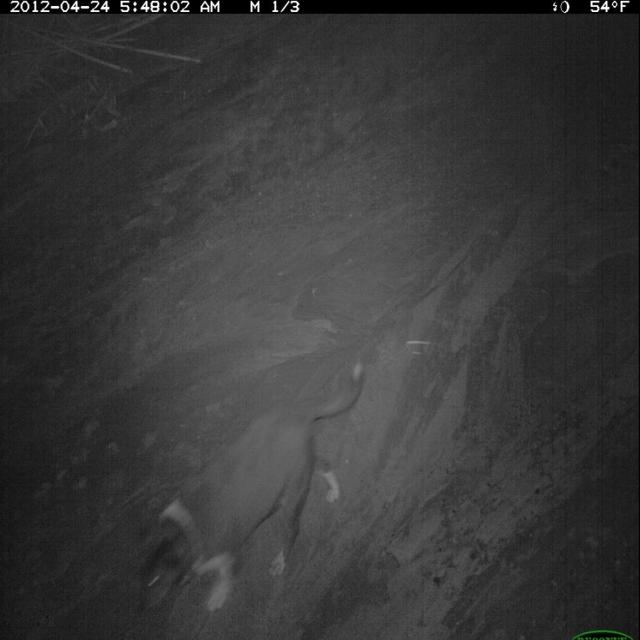dog: (136, 356, 369, 619)
